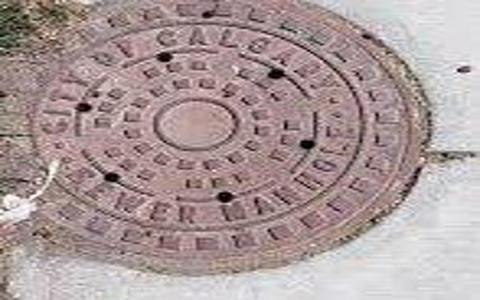proper manhole: (4, 1, 437, 275)
